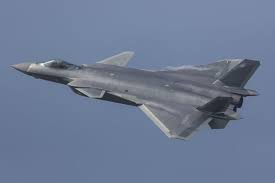fighter: (8, 47, 263, 144)
